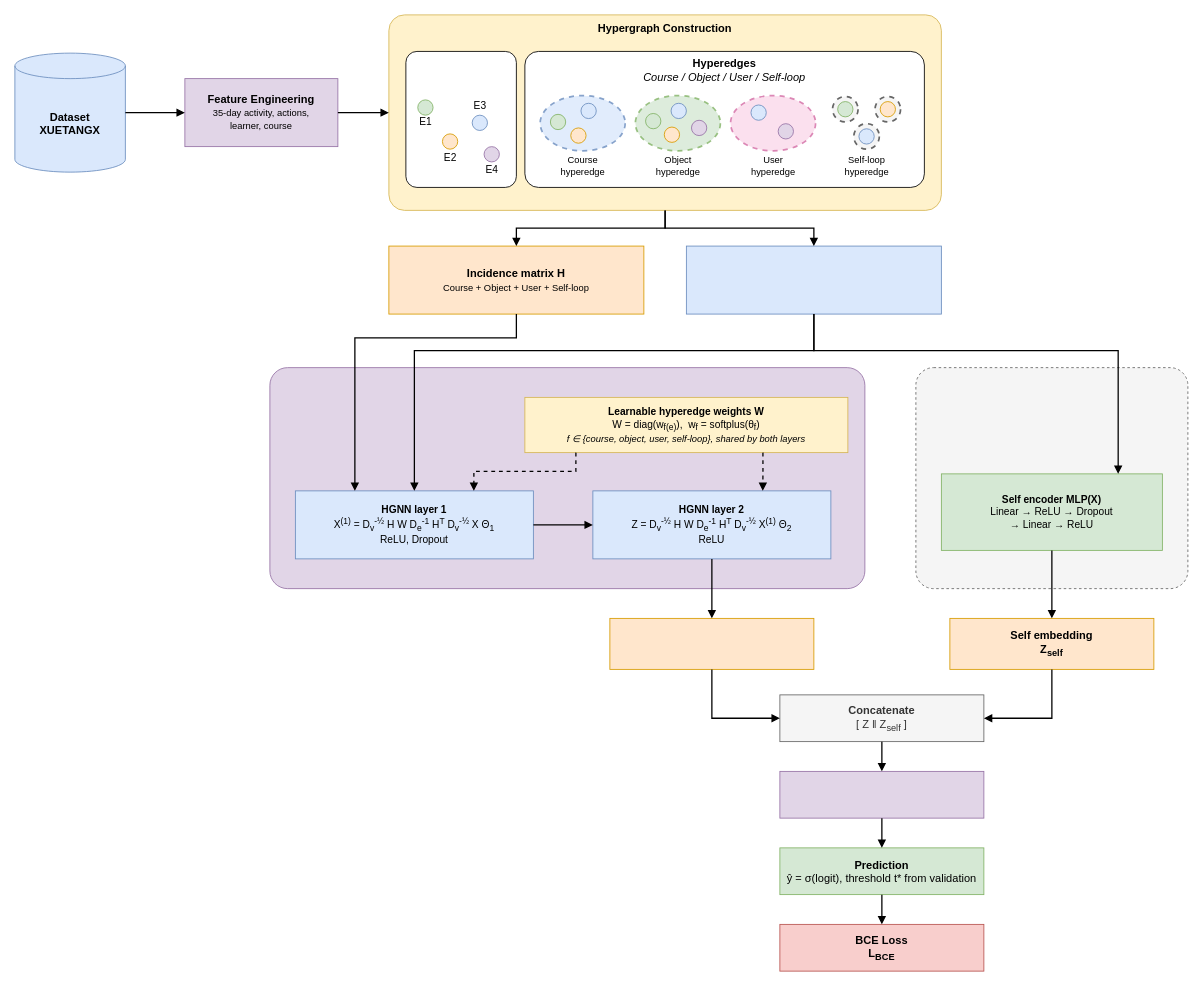
The diagram is 1203 pixels wide and 986 high, and some of its shapes have lost their labels. Each missing label, with the box of its shape:
Classifier Linear: (779, 771, 984, 818)
Hypergraph embedding Z: (609, 618, 814, 669)
Node features X: (686, 245, 941, 314)
Nodes Enrollment: (405, 51, 516, 187)
Skip Connection: (915, 367, 1188, 589)
Weighted HGNN Encoder (2 layers): (269, 367, 865, 589)
